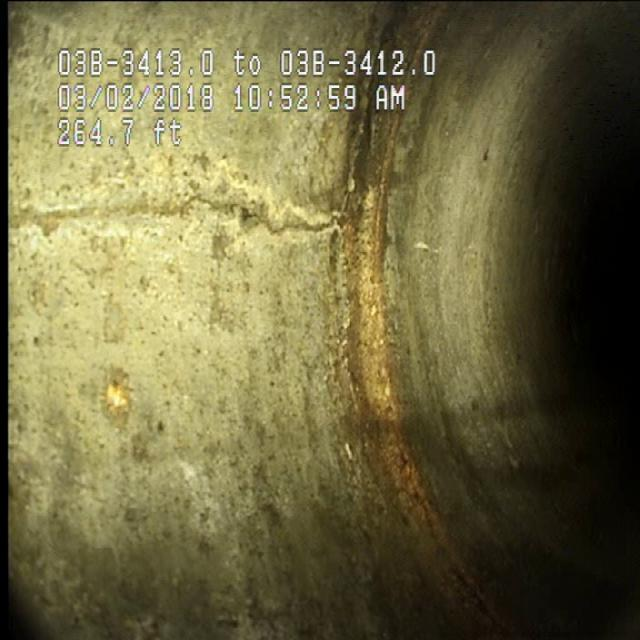Crack: (11, 149, 316, 298)
